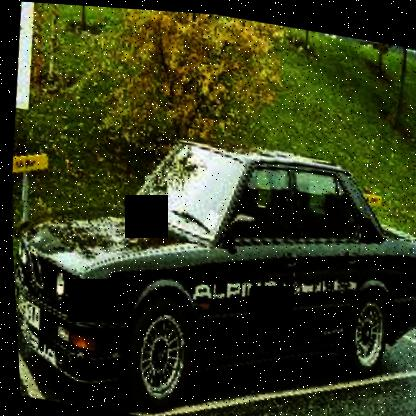not_emergency: (4, 111, 415, 413)
